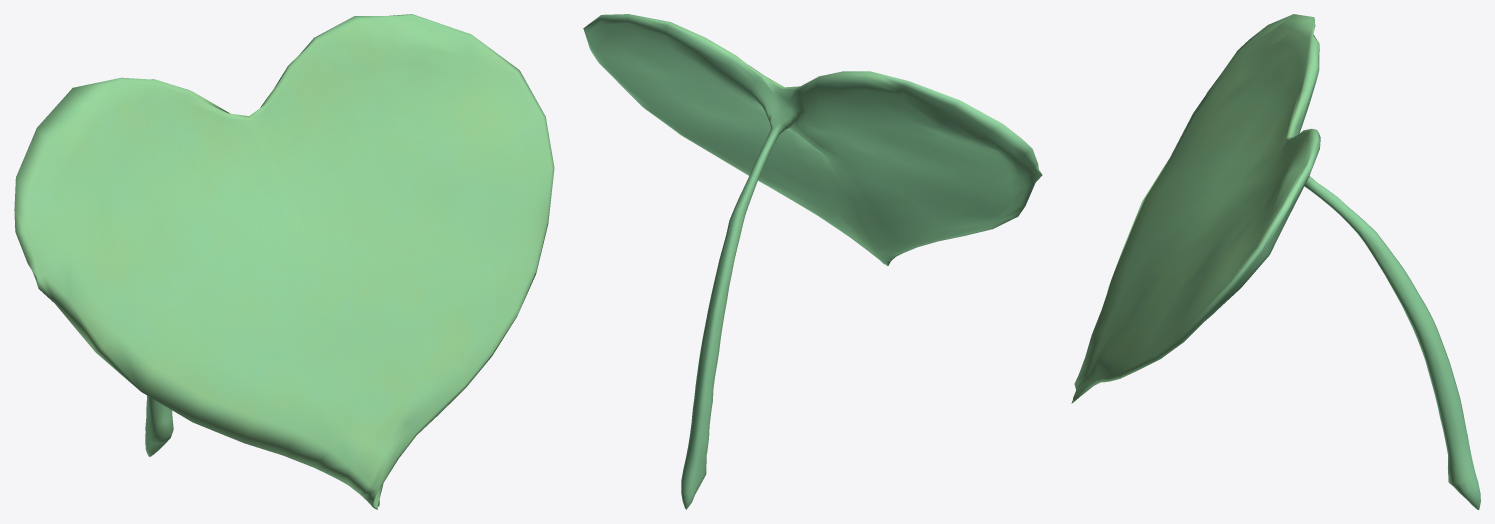
The model's file is pothos_chubby_base.glb.
3 views of the same model, side by side, from view 1: azimuth 30°, elevation 25°; view 2: azimuth 150°, elevation 25°; view 3: azimuth 270°, elevation 25° (orthographic). The views are drawn at different scales.
Bounding box in the file's own units: 2 × 1.75 × 1.54.
1 material, 1 textured.
